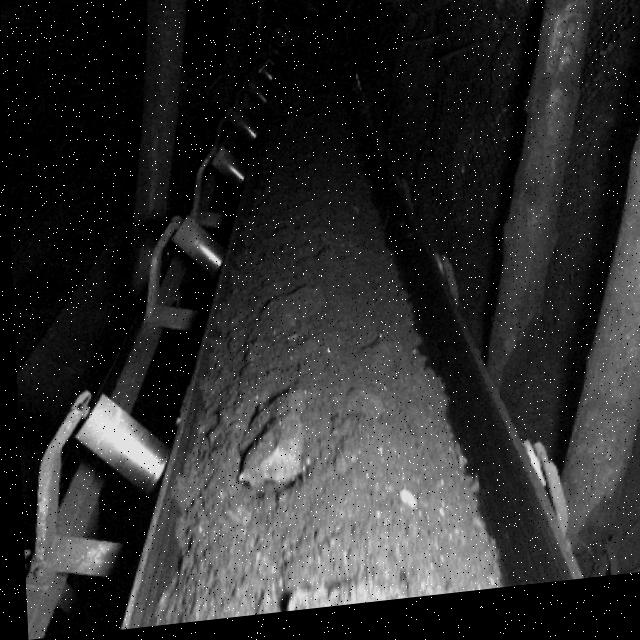large_sized_coal: (231, 397, 312, 495)
